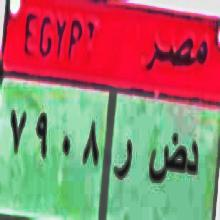0: (61, 130, 74, 164)
7: (8, 105, 28, 160)
8: (82, 121, 98, 172)
9: (34, 107, 50, 161)
daad: (147, 127, 186, 187)
daal: (187, 138, 200, 180)
raa: (113, 130, 133, 188)
